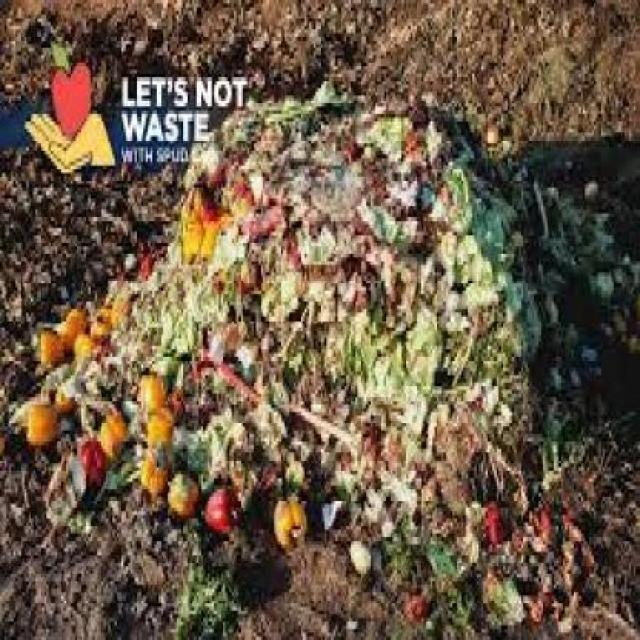garbage: (199, 103, 636, 626), (3, 185, 197, 626)
